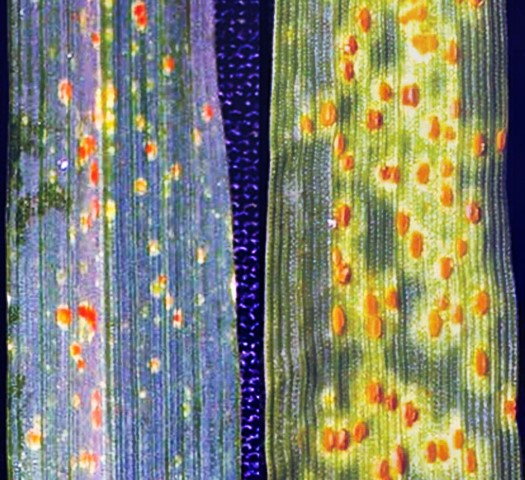Leaf Rust: (262, 17, 525, 477)
